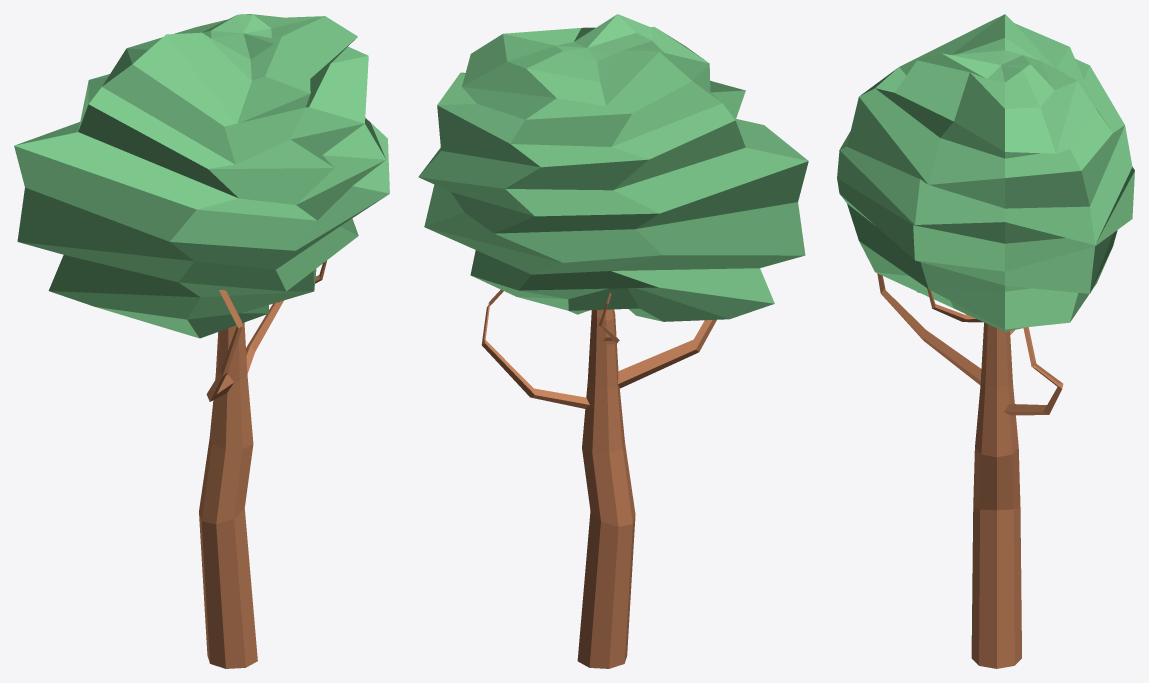
Rendered from Árbol 1.fbx.
3 views of the same model, side by side, from view 1: azimuth 30°, elevation 25°; view 2: azimuth 150°, elevation 25°; view 3: azimuth 270°, elevation 25° (orthographic). The views are drawn at different scales.
Visible parts, largest first — view 1: Sphere; view 2: Sphere; view 3: Sphere.
Part boxes in pixels (x1,y1,x2,y2): Sphere: [14, 14, 389, 668]; Sphere: [418, 14, 808, 668]; Sphere: [837, 14, 1134, 668].
Size of the model in its own units: 1652 by 2684 by 1179.
